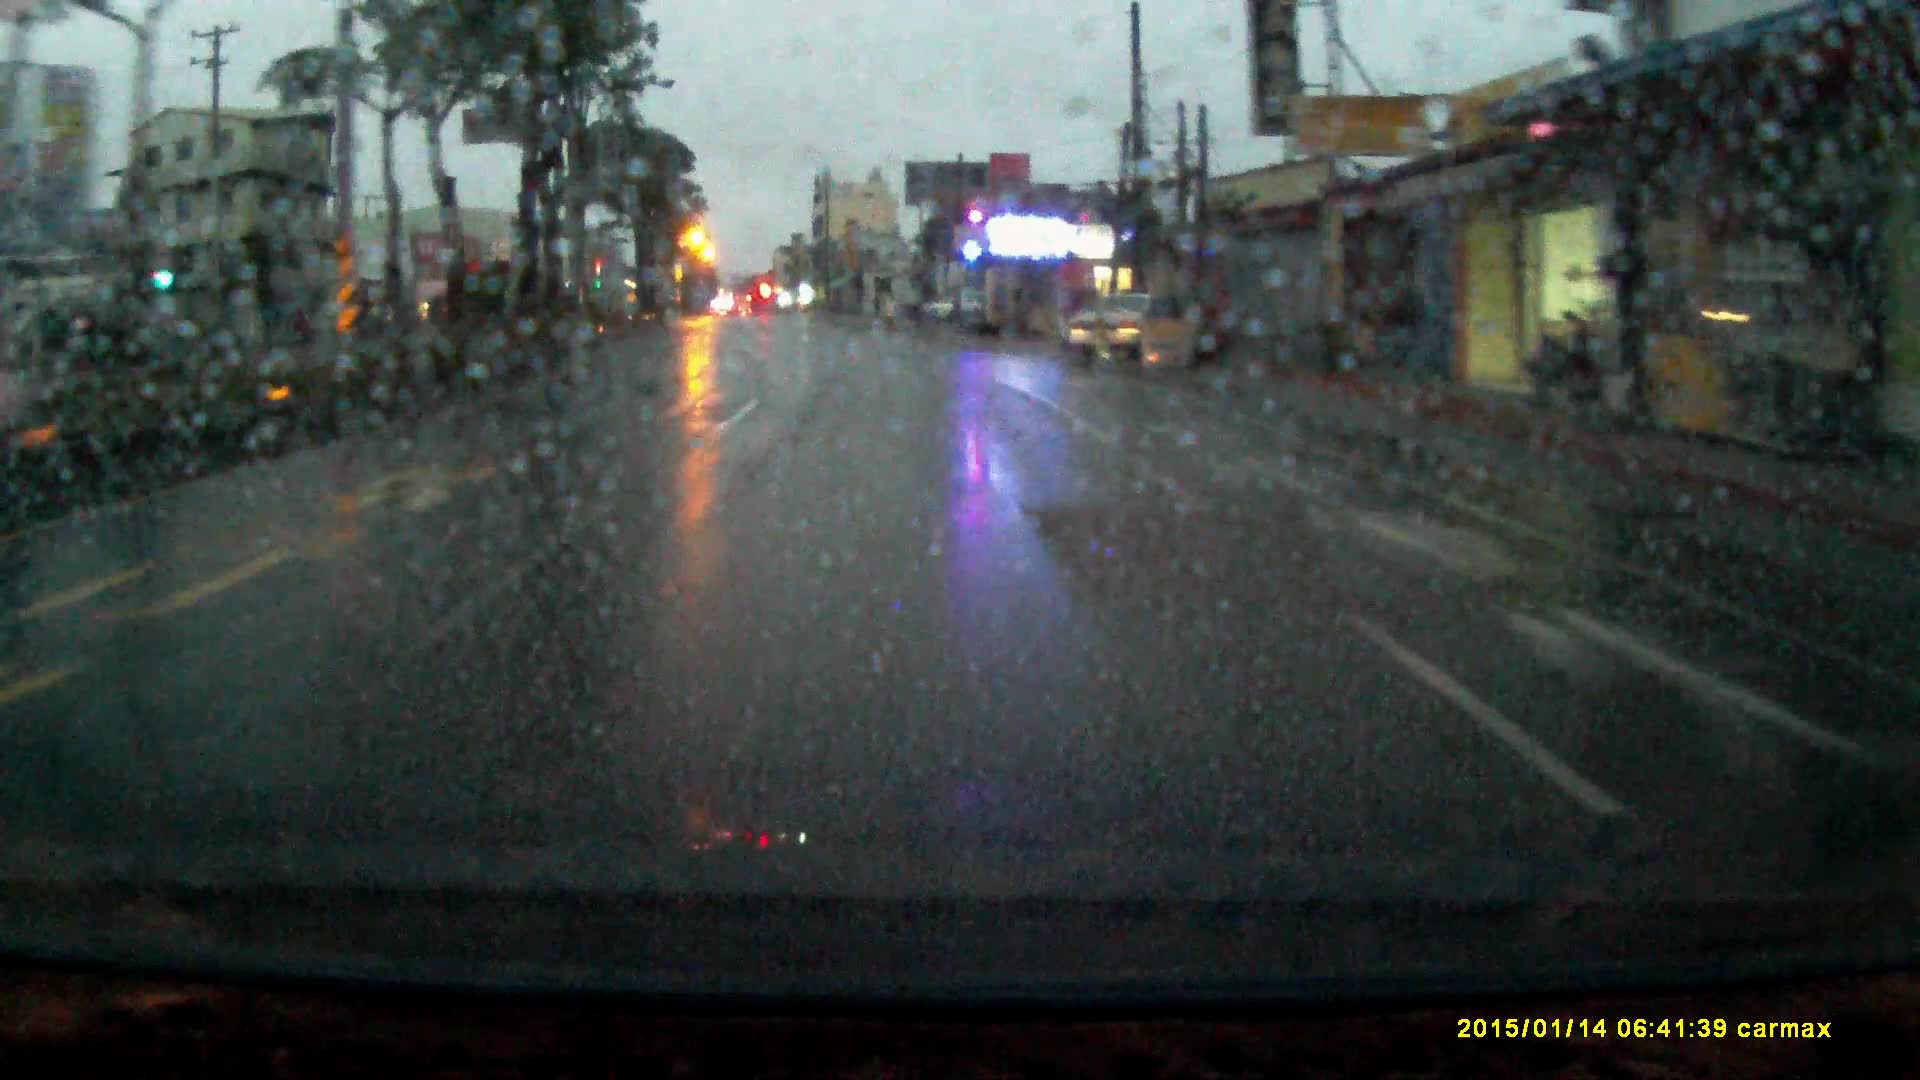vehicle: (1071, 291, 1203, 375), (919, 287, 990, 327)
